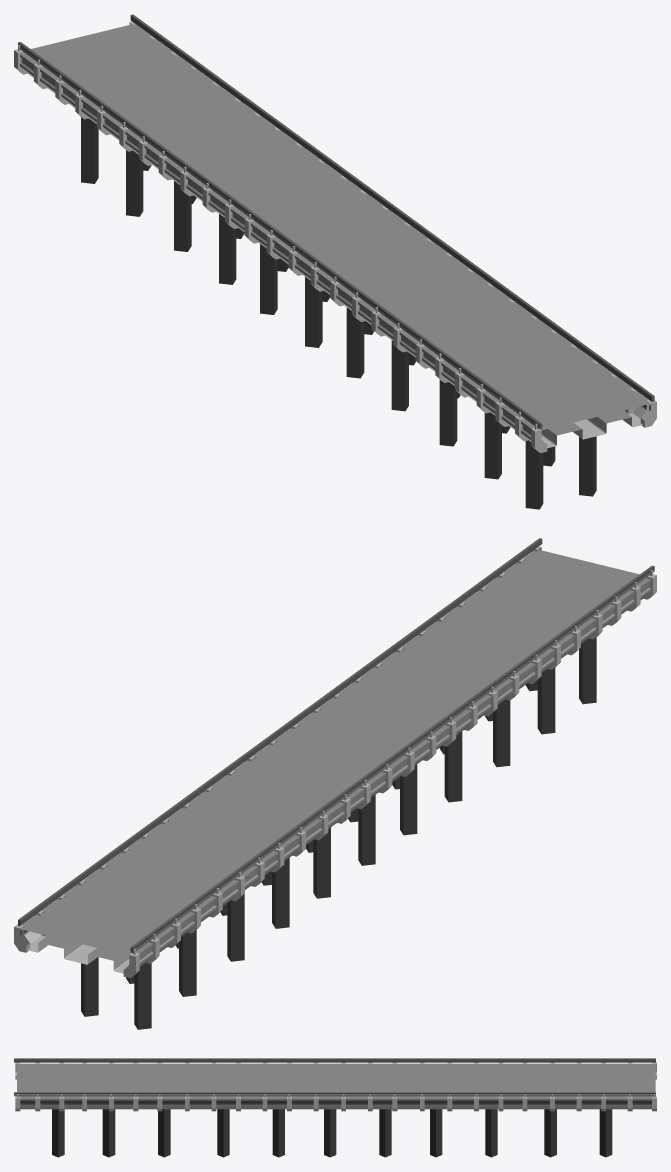
The model's file is highway.FBX.
3 renders of one model, top to bottom at view 1: azimuth 30°, elevation 25°; view 2: azimuth 150°, elevation 25°; view 3: azimuth 270°, elevation 25°, orthographic. The views are drawn at different scales.
Parts seen in each view (by area): view 1: factory_highway; view 2: factory_highway; view 3: factory_highway.
Boxes of the visible parts, box(x1,y1,x2,y2) form: factory_highway: box(14, 14, 656, 509); factory_highway: box(14, 538, 656, 1029); factory_highway: box(14, 1058, 656, 1157).
Bounding box in the file's own units: 1234 × 1119 × 9163.
